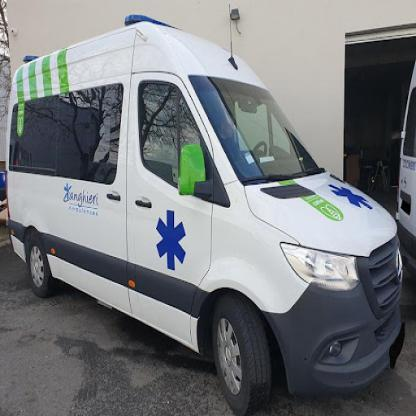Ambulance - v1 Ambulance last generate: (0, 2, 406, 395)
